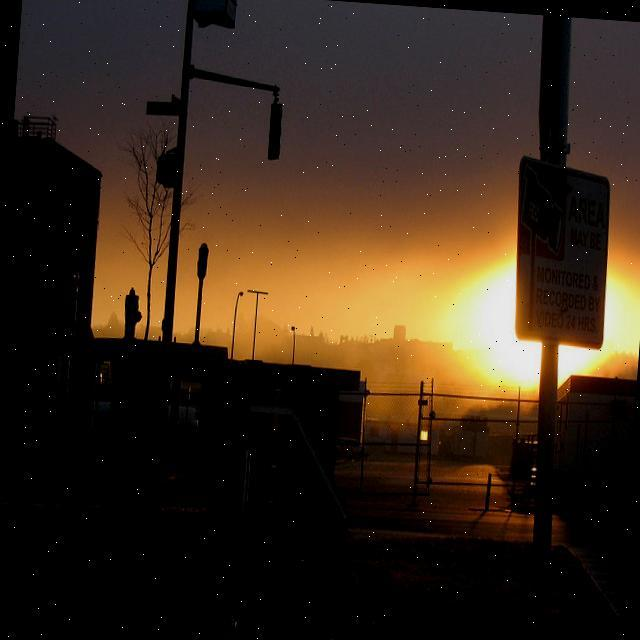fire_hydrant: (122, 286, 144, 340)
